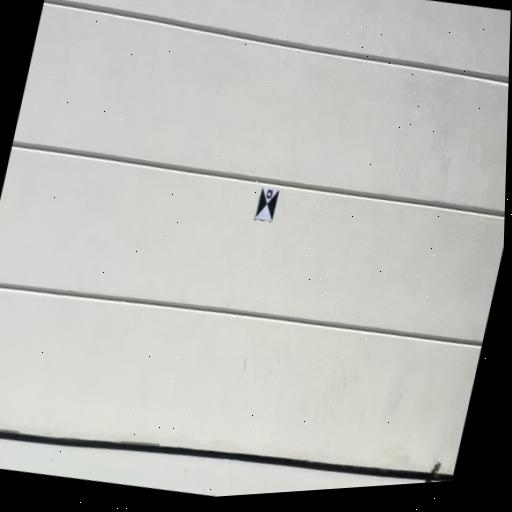target0: (254, 187, 279, 222)
